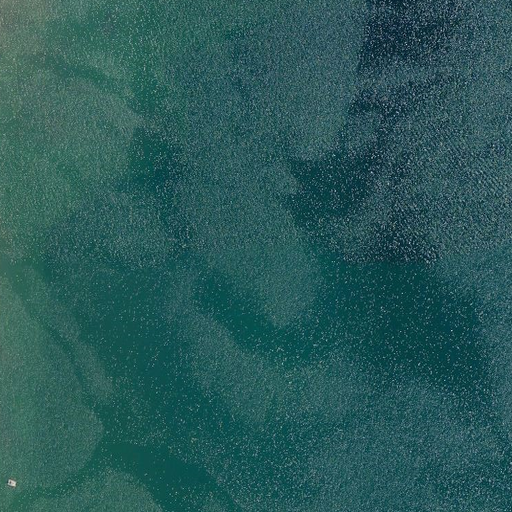ship: (5, 479, 17, 487)
